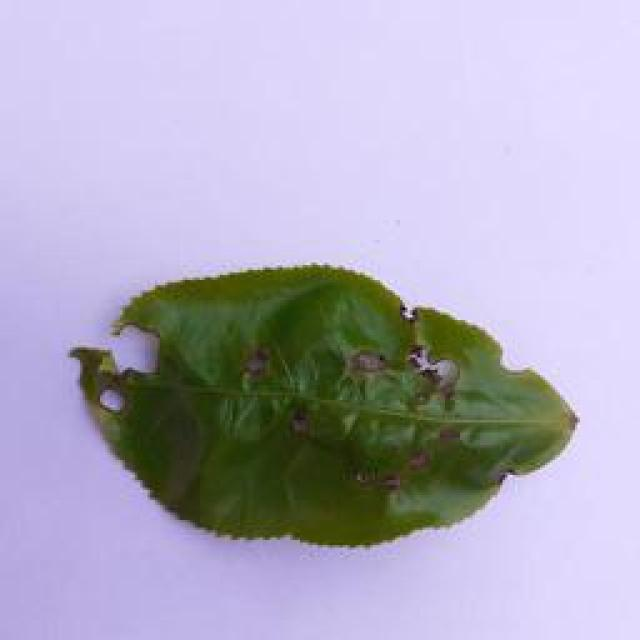Helopeltis: (53, 245, 595, 564)
